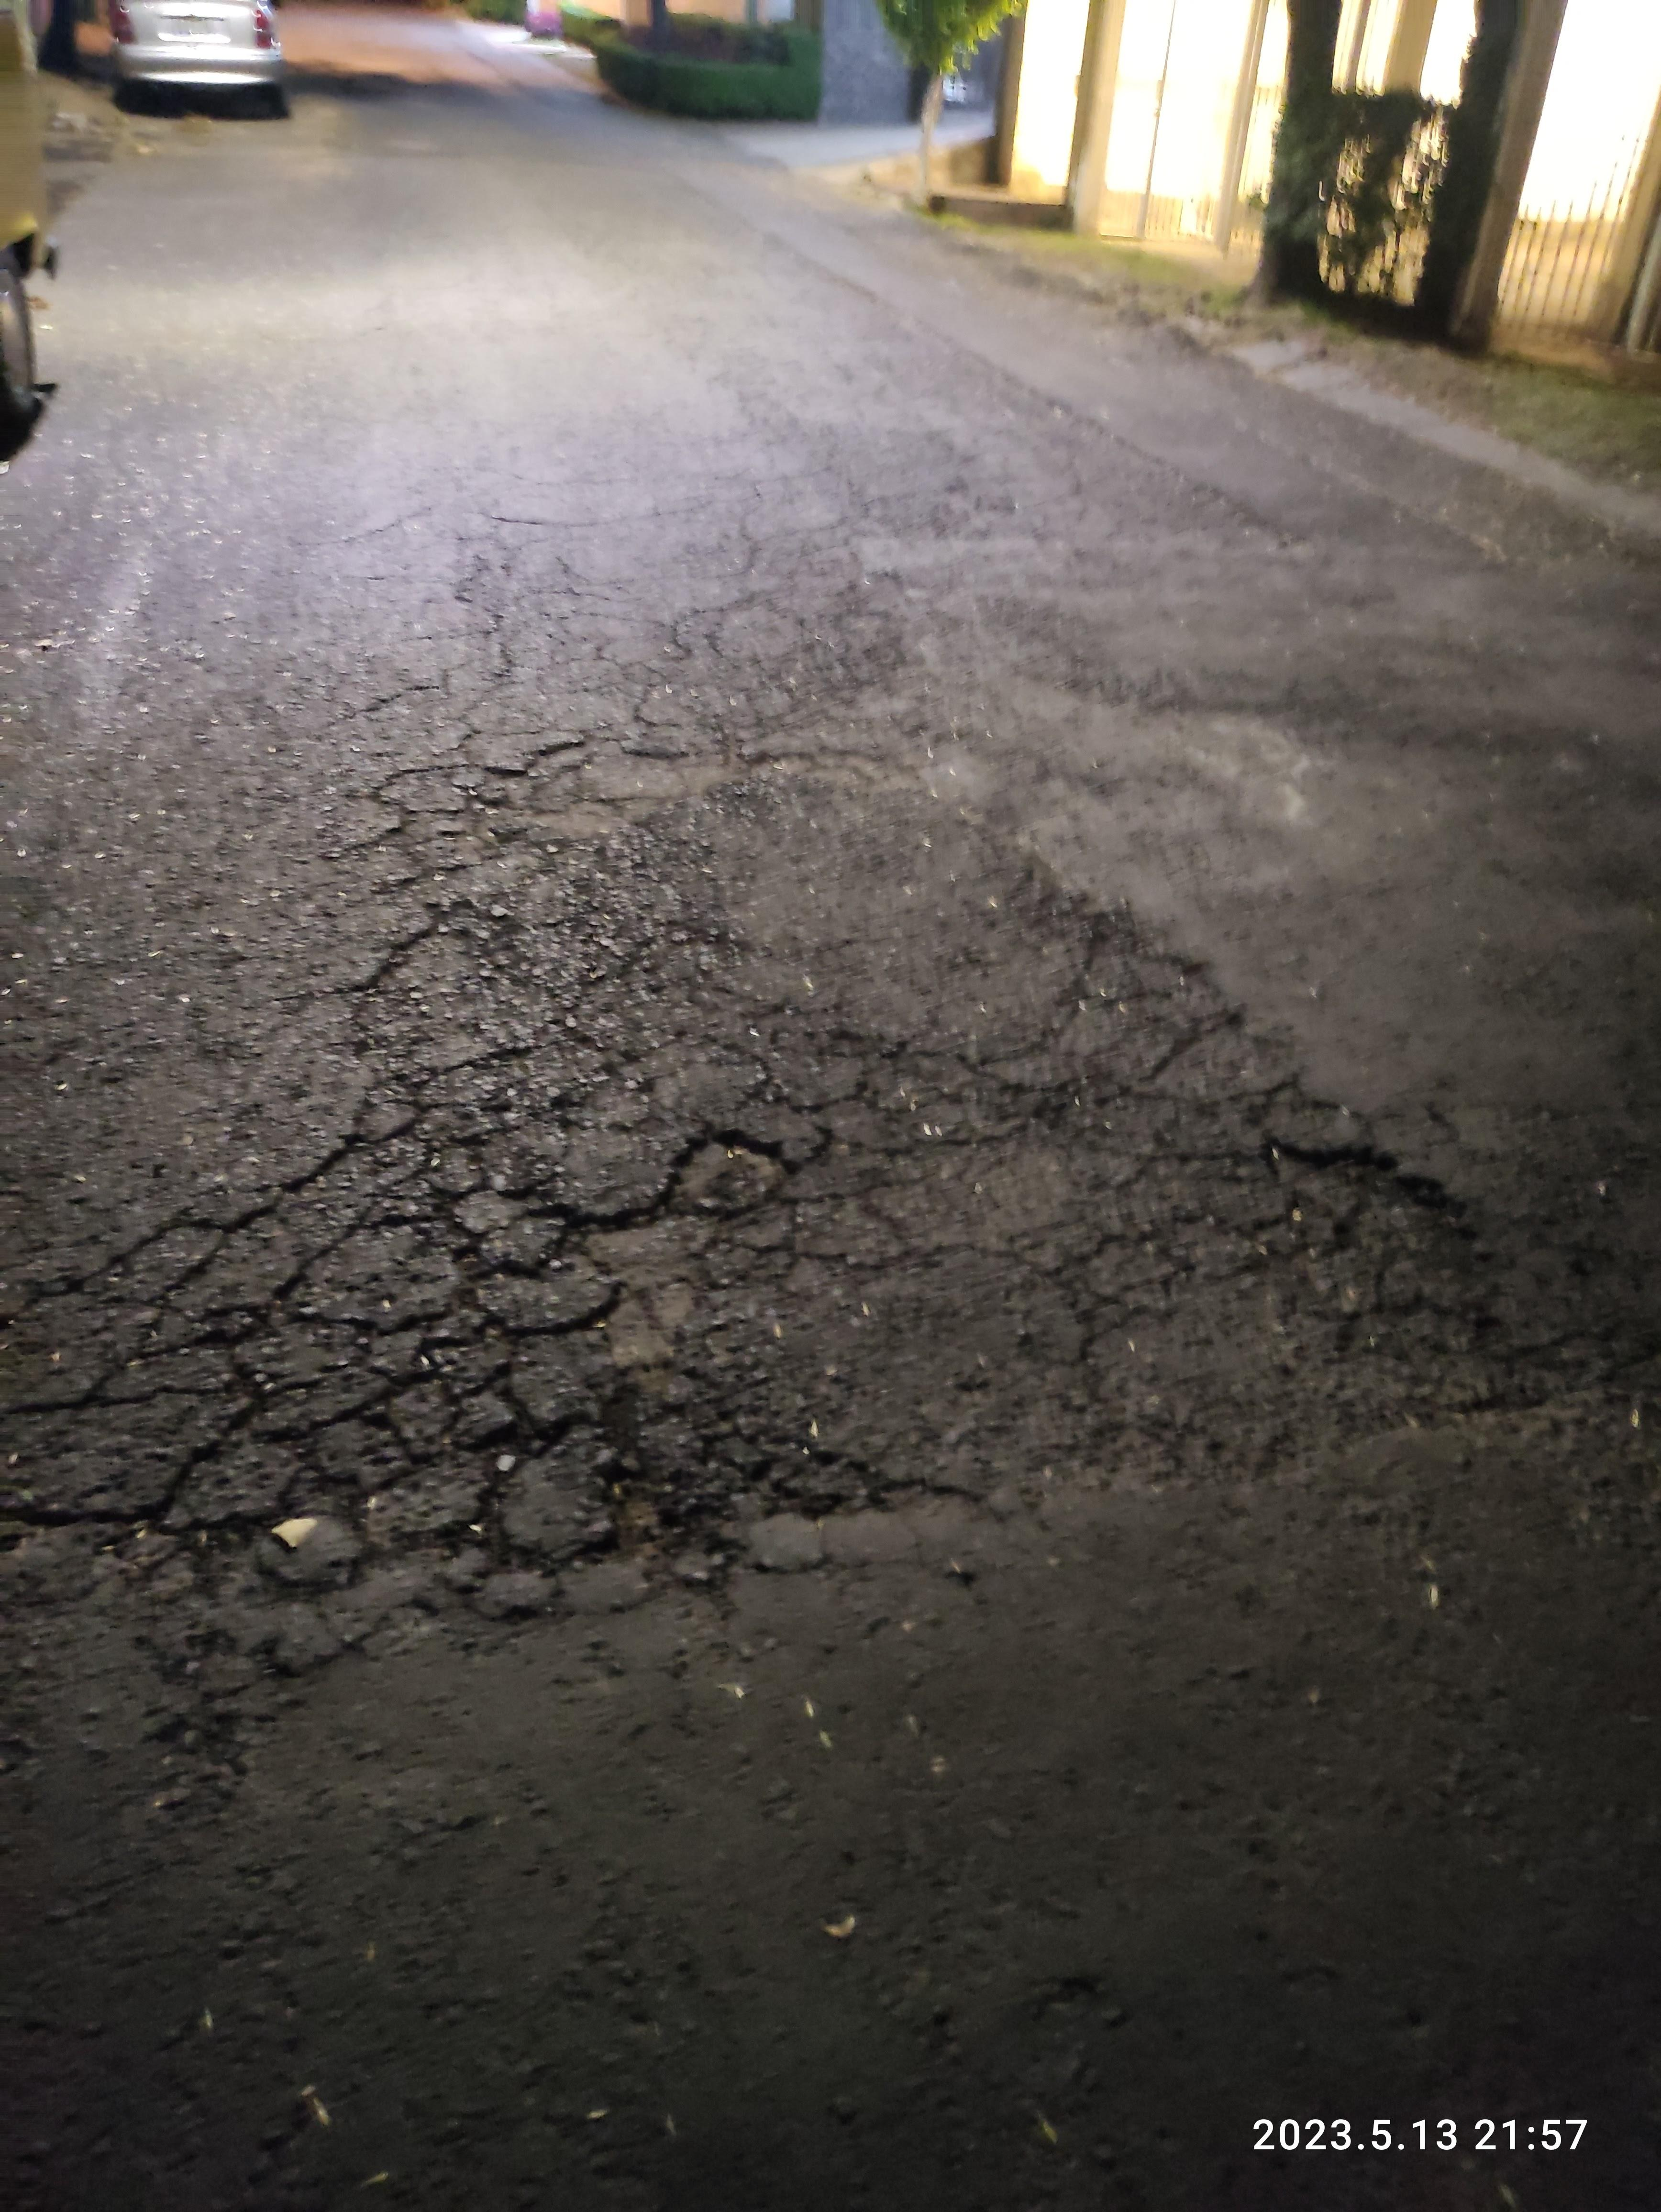alligator-crack: (12, 727, 1569, 1622), (389, 431, 1026, 750)
